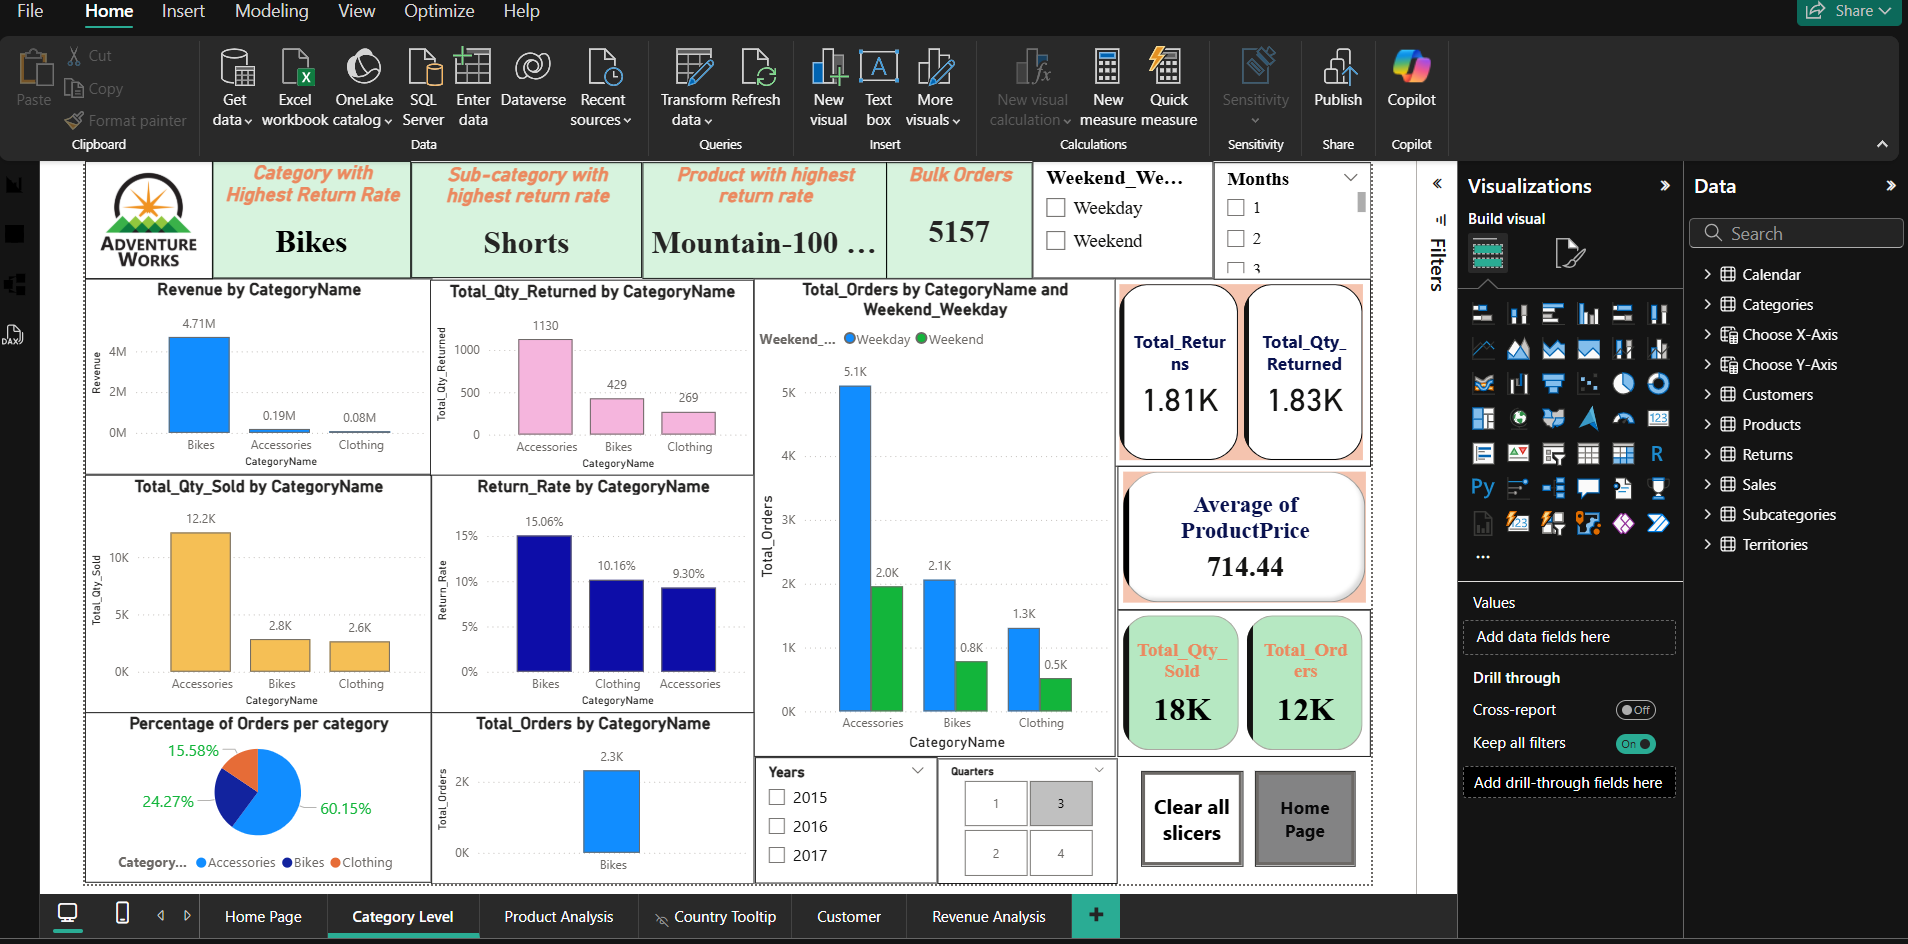

Layout of this report page (visuals, bound fields, positions):
{"tool":"powerbi","page":{"name":"Category Level","canvas":[1280,720],"ordinal":1},"visuals":[{"type":"clusteredColumnChart","fields":{"Category":["Categories.CategoryName"],"Y":["Sales.Revenue"]},"box":[0,116.9,345.5,194.8],"z":0},{"type":"image","box":[0,0,127.2,117.4],"z":1000},{"type":"clusteredColumnChart","fields":{"Category":["Categories.CategoryName"],"Y":["Sales.Total_Qty_Sold"]},"box":[0,311.8,344.8,237.2],"z":2000},{"type":"clusteredColumnChart","fields":{"Category":["Categories.CategoryName"],"Y":["Returns.Total_Qty_Returned"]},"box":[343.3,118.2,322.2,195.3],"z":3000},{"type":"clusteredColumnChart","fields":{"Category":["Categories.CategoryName"],"Y":["Returns.Return_Rate"]},"box":[344.8,311.8,321.6,237.2],"z":4000},{"type":"card","title":"Category with Highest Return Rate","fields":{"Values":["Min(Categories.CategoryName)"]},"box":[127.3,0,197.4,116.9],"z":5000},{"type":"card","title":"Sub-category with highest return rate","fields":{"Values":["Min(Subcategories.SubcategoryName)"]},"box":[324.7,1.3,229.9,115.6],"z":6000},{"type":"card","title":"Product with highest return rate","fields":{"Values":["Min(Products.ProductName)"]},"box":[554.3,1.4,242.9,115.7],"z":7000},{"type":"cardVisual","fields":{"Data":["Returns.Total_Returns","Returns.Total_Qty_Returned"]},"box":[1024.2,116.9,255.8,187],"z":8000},{"type":"card","title":"Bulk Orders","fields":{"Values":["Sales.Bulk_Orders"]},"box":[797.1,1.4,145.7,115.7],"z":9000},{"type":"clusteredColumnChart","fields":{"Category":["Categories.CategoryName"],"Series":["Sales.Weekend_Weekday"],"Y":["Sales.Total_Orders"]},"box":[665.7,117.1,360,475.7],"z":10000},{"type":"slicer","fields":{"Values":["Sales.Weekend_Weekday"]},"box":[942.9,0,180,117.1],"z":11000},{"type":"slicer","fields":{"Values":["Sales.Dates.Months"]},"box":[1123.4,1.3,157.1,116.9],"z":12000},{"type":"pieChart","title":"Percentage of Orders per category","fields":{"Category":["Categories.CategoryName"],"Y":["CountNonNull(Sales.OrderNumber)"]},"box":[0,549.1,344.8,170],"z":13000},{"type":"clusteredColumnChart","fields":{"Category":["Categories.CategoryName"],"Y":["Sales.Total_Orders"]},"box":[345,548.8,321.2,171.2],"z":14000},{"type":"cardVisual","fields":{"Data":["Avg(Products.ProductPrice)"]},"box":[1027.3,303.9,253.2,142.9],"z":15000},{"type":"cardVisual","fields":{"Data":["Sales.Total_Qty_Sold","Sales.Total_Orders"]},"box":[1027.3,446.8,251.9,146.8],"z":16000},{"type":"slicer","fields":{"Values":["Sales.Years"]},"box":[666.2,593.5,181.8,126],"z":17000},{"type":"slicer","fields":{"Values":["Sales.Dates.Quarters"]},"box":[848.1,594.8,179.2,124.7],"z":18000},{"type":"actionButton","title":"Home Page","box":[1164.9,606.5,100,94.8],"z":19000},{"type":"actionButton","box":[1050.6,606.5,101.3,94.8],"z":20000}]}

Visuals, with their boxes on the page's 1280x720 design canvas (x1, y1, x2, y2). These are canvas units, not pixel positions in the 1908x944 screenshot, which may show the page scaled, cropped or inside an application window:
clusteredColumnChart - Categories.CategoryName x Sales.Revenue: bbox(0, 117, 346, 312)
image: bbox(0, 0, 127, 117)
clusteredColumnChart - Categories.CategoryName x Sales.Total_Qty_Sold: bbox(0, 312, 345, 549)
clusteredColumnChart - Categories.CategoryName x Returns.Total_Qty_Returned: bbox(343, 118, 666, 314)
clusteredColumnChart - Categories.CategoryName x Returns.Return_Rate: bbox(345, 312, 666, 549)
"Category with Highest Return Rate" card: bbox(127, 0, 325, 117)
"Sub-category with highest return rate" card: bbox(325, 1, 555, 117)
"Product with highest return rate" card: bbox(554, 1, 797, 117)
cardVisual - Returns.Total_Returns x Returns.Total_Qty_Returned: bbox(1024, 117, 1280, 304)
"Bulk Orders" card: bbox(797, 1, 943, 117)
clusteredColumnChart - Categories.CategoryName x Sales.Weekend_Weekday: bbox(666, 117, 1026, 593)
slicer - Sales.Weekend_Weekday: bbox(943, 0, 1123, 117)
slicer - Sales.Dates.Months: bbox(1123, 1, 1280, 118)
"Percentage of Orders per category" pieChart: bbox(0, 549, 345, 719)
clusteredColumnChart - Categories.CategoryName x Sales.Total_Orders: bbox(345, 549, 666, 720)
cardVisual - Avg(Products.ProductPrice): bbox(1027, 304, 1280, 447)
cardVisual - Sales.Total_Qty_Sold x Sales.Total_Orders: bbox(1027, 447, 1279, 594)
slicer - Sales.Years: bbox(666, 594, 848, 720)
slicer - Sales.Dates.Quarters: bbox(848, 595, 1027, 720)
"Home Page" actionButton: bbox(1165, 606, 1265, 701)
actionButton: bbox(1051, 606, 1152, 701)
